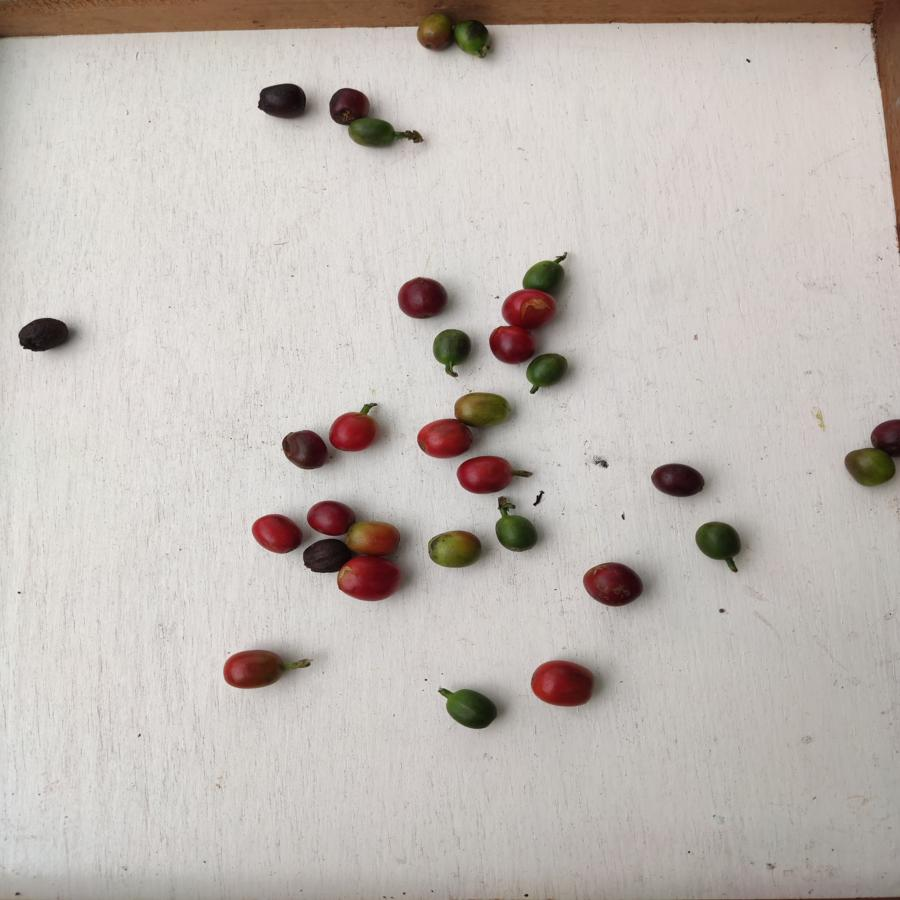Inmaduro: (443, 686, 501, 734), (692, 520, 745, 564), (521, 350, 571, 390), (430, 324, 474, 367), (345, 117, 399, 150), (494, 513, 537, 554), (451, 18, 490, 60), (520, 259, 564, 293)
Maduro: (528, 657, 598, 713), (340, 555, 402, 603), (224, 646, 288, 689), (248, 511, 303, 558), (454, 454, 512, 498), (501, 289, 561, 330), (326, 411, 380, 456), (418, 417, 473, 461), (488, 326, 535, 365), (305, 499, 351, 535)
Pinton: (425, 528, 483, 571), (841, 447, 895, 486), (455, 392, 511, 427), (347, 520, 401, 554), (411, 10, 453, 50)
Sobremaduro: (582, 560, 649, 609), (393, 276, 453, 316), (255, 81, 308, 124), (280, 428, 330, 470), (650, 463, 707, 499), (16, 314, 70, 352), (299, 537, 344, 574), (326, 86, 374, 118), (872, 414, 900, 453)
